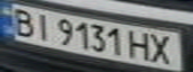1: (69, 19, 90, 51), (106, 25, 127, 56)
3: (87, 21, 106, 54)
9: (51, 16, 75, 46)
B: (6, 6, 39, 37)
H: (124, 28, 154, 61)
I: (30, 11, 57, 42)
X: (145, 32, 178, 66)
